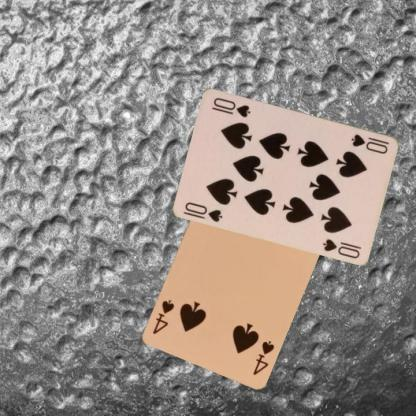10s: (348, 131, 392, 156), (183, 199, 224, 223)
4s: (250, 338, 276, 376)
